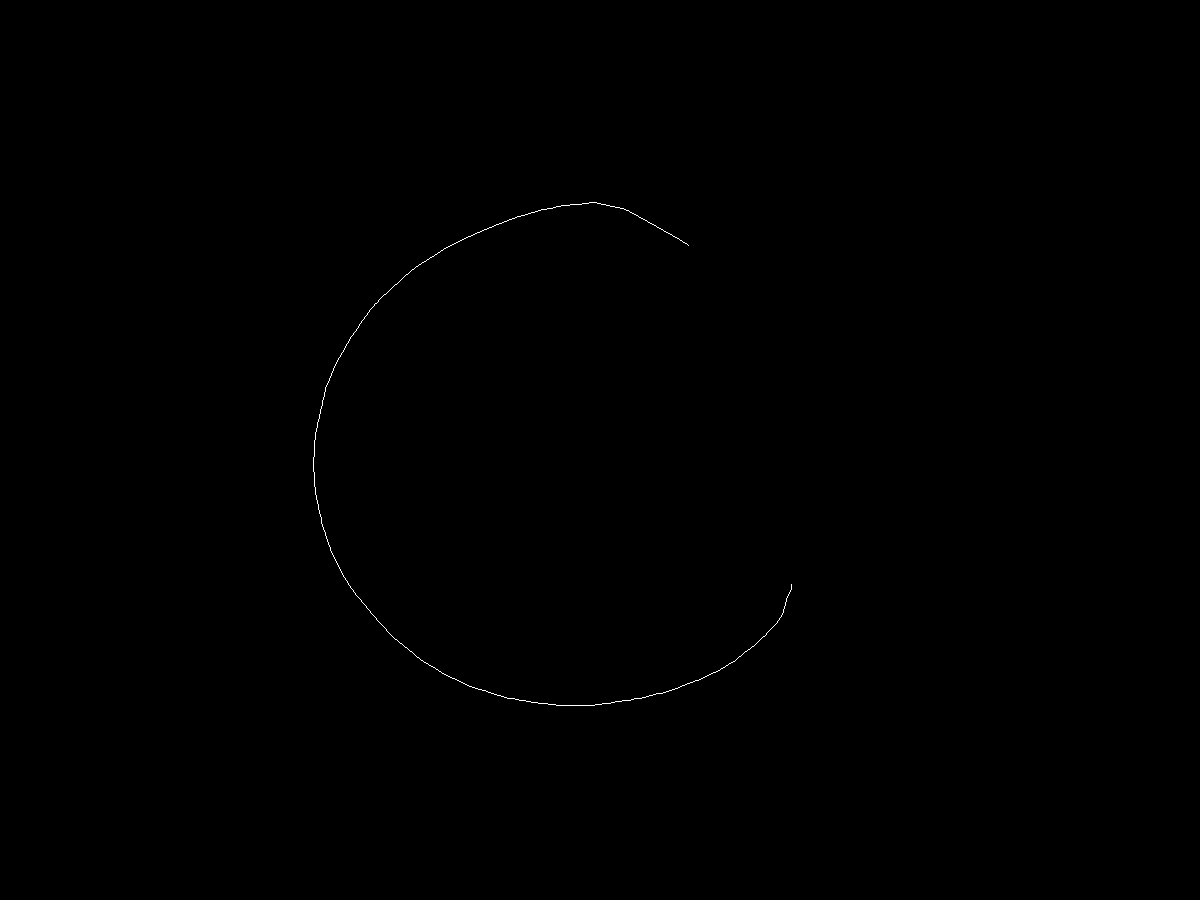dian1: (674, 230, 696, 258)
dian2: (786, 568, 807, 598)
